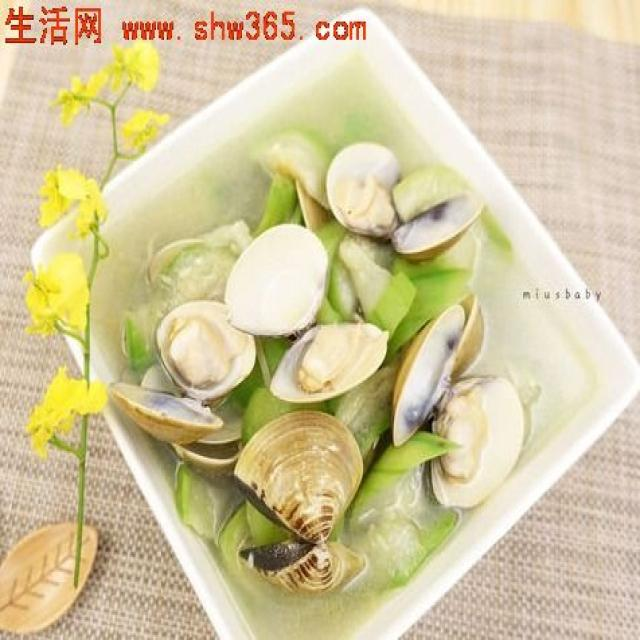Wet: (133, 127, 508, 575)
